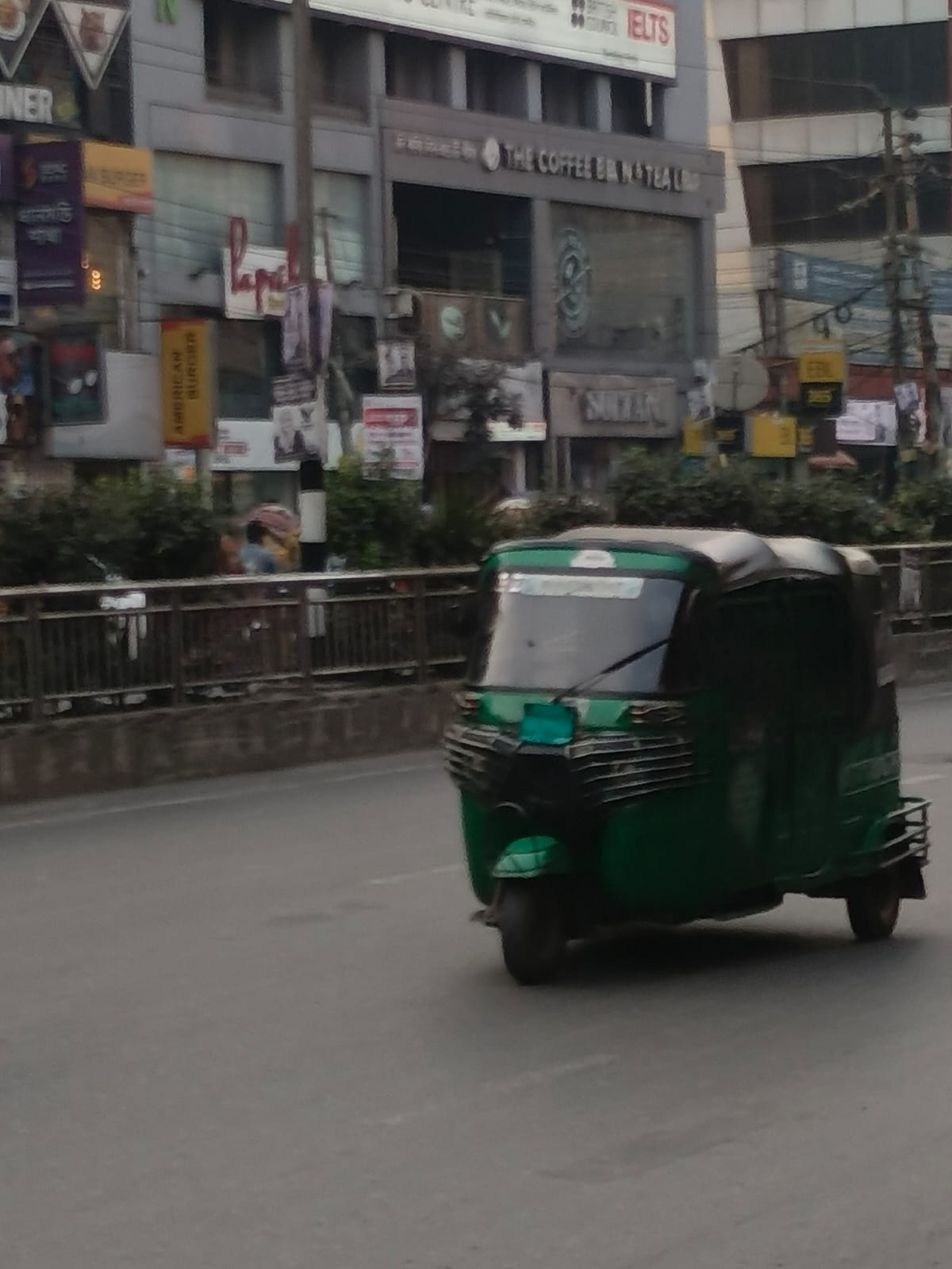cng: (428, 501, 952, 991)
